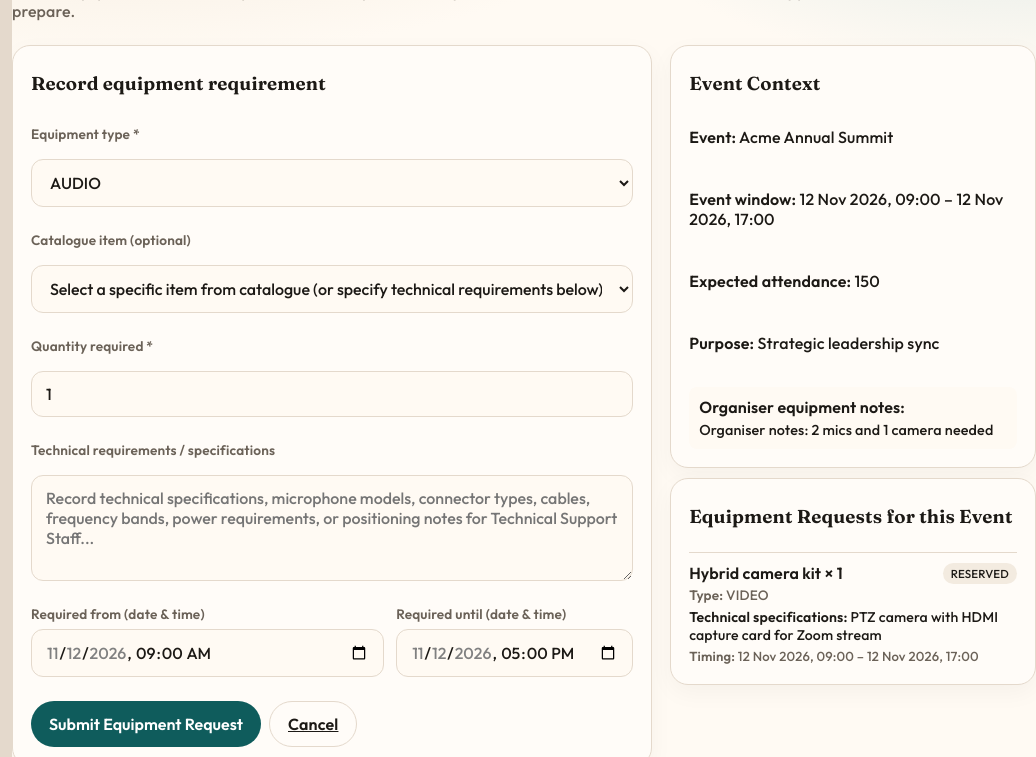
Scenario: SCRUM-47 EquipmentRequest page › AC4: rejects Required until after the event end
(page scrolled)
Replace the text in the field labelled "Required until (date & time)" with "2026-11-12T23:59": (515, 653) left=396, top=629, right=633, bottom=677
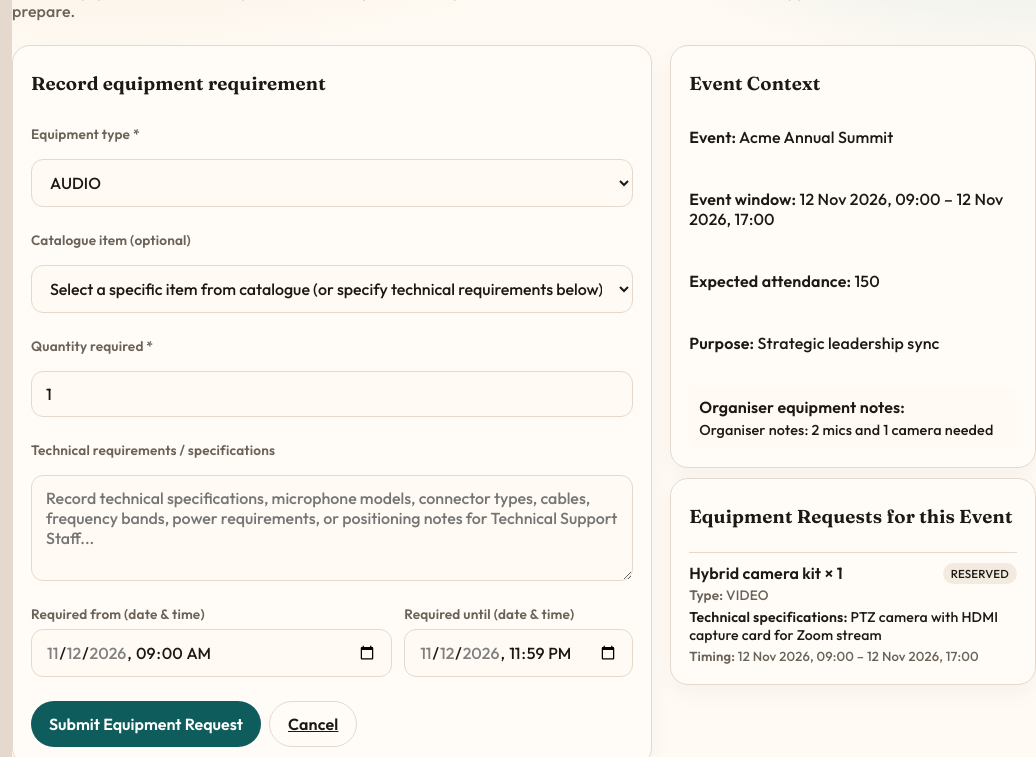
Replace the text in the field labelled "Required until (date & time)" with "2026-11-13T17:00": (519, 653) left=404, top=629, right=633, bottom=677
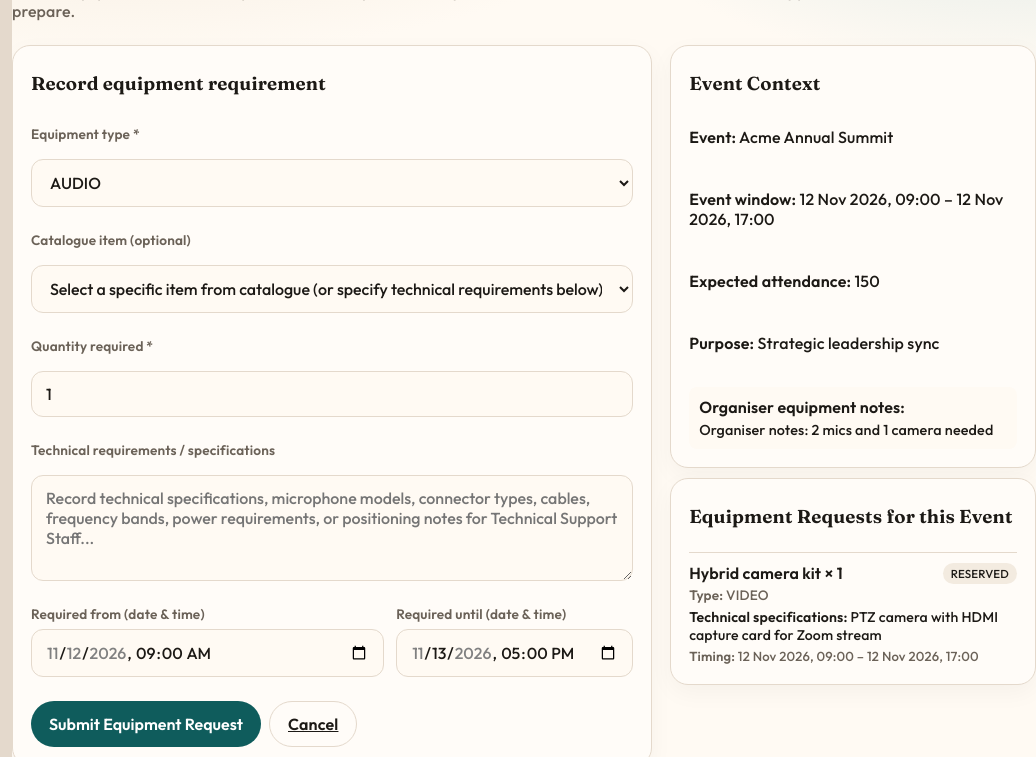
Click the button "Submit Equipment Request": click(146, 724) left=31, top=701, right=261, bottom=747
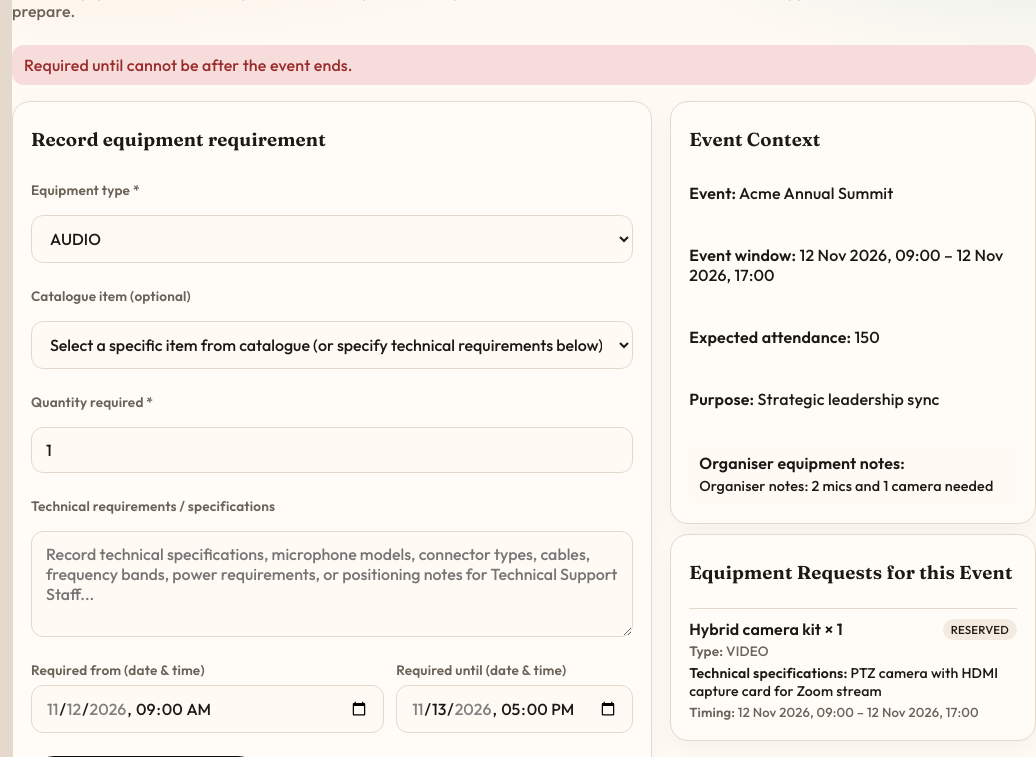
Check: the text "Required until cannot be after the event ends." is shown, box left=12, top=45, right=1035, bottom=85
